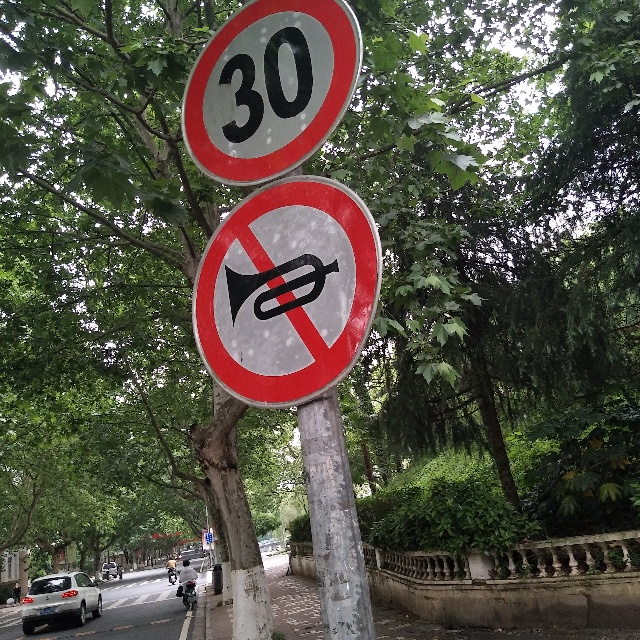nohonk: (198, 226, 365, 371)
